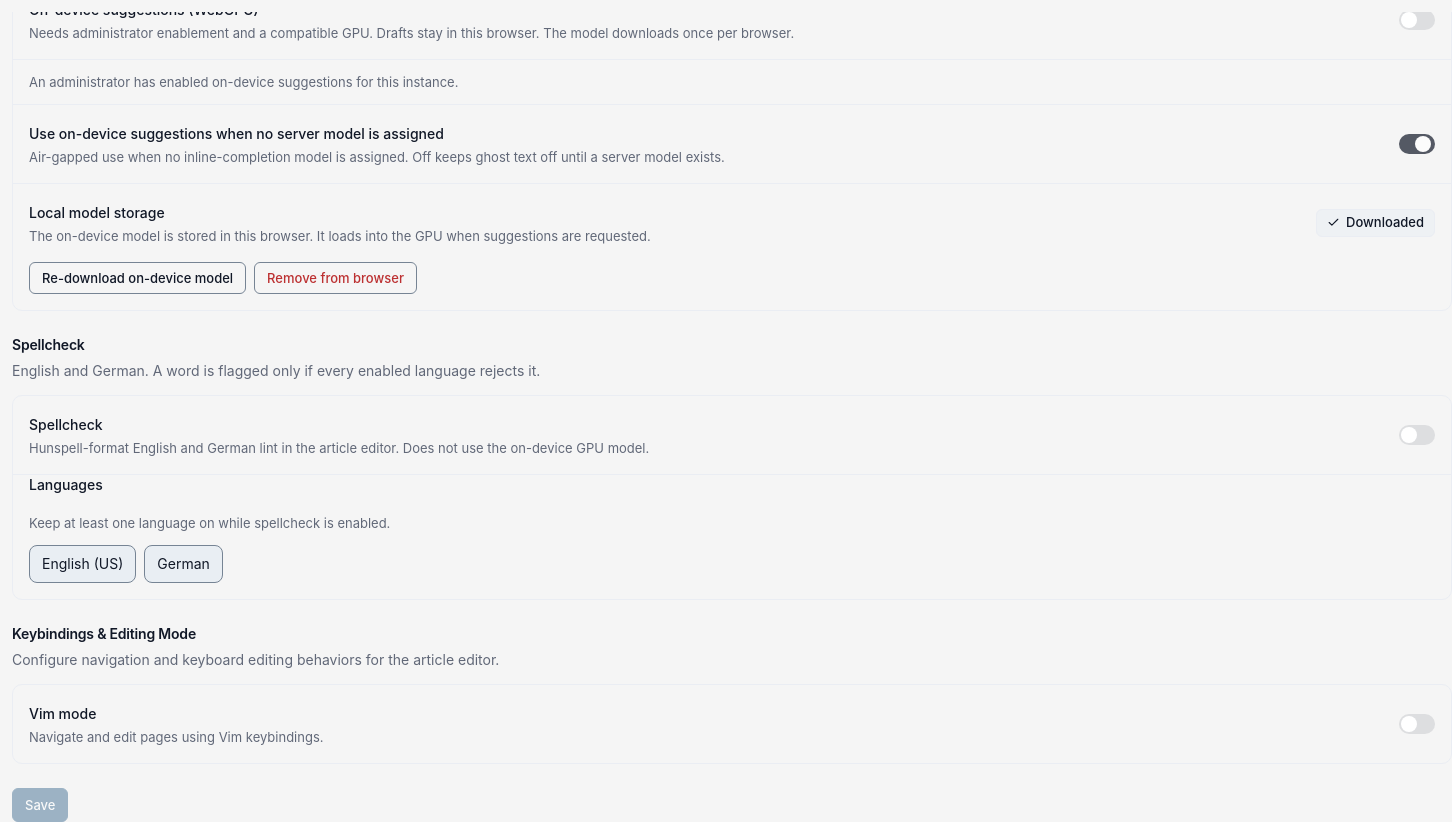
Test: EditorPreferencesTab on-device shells (#1418) › clears downloaded model when Remove from browser button is clicked
(page scrolled)
Click the button with test id "client-inference-clear-model".
click(336, 278)  # box [254,262,417,294]
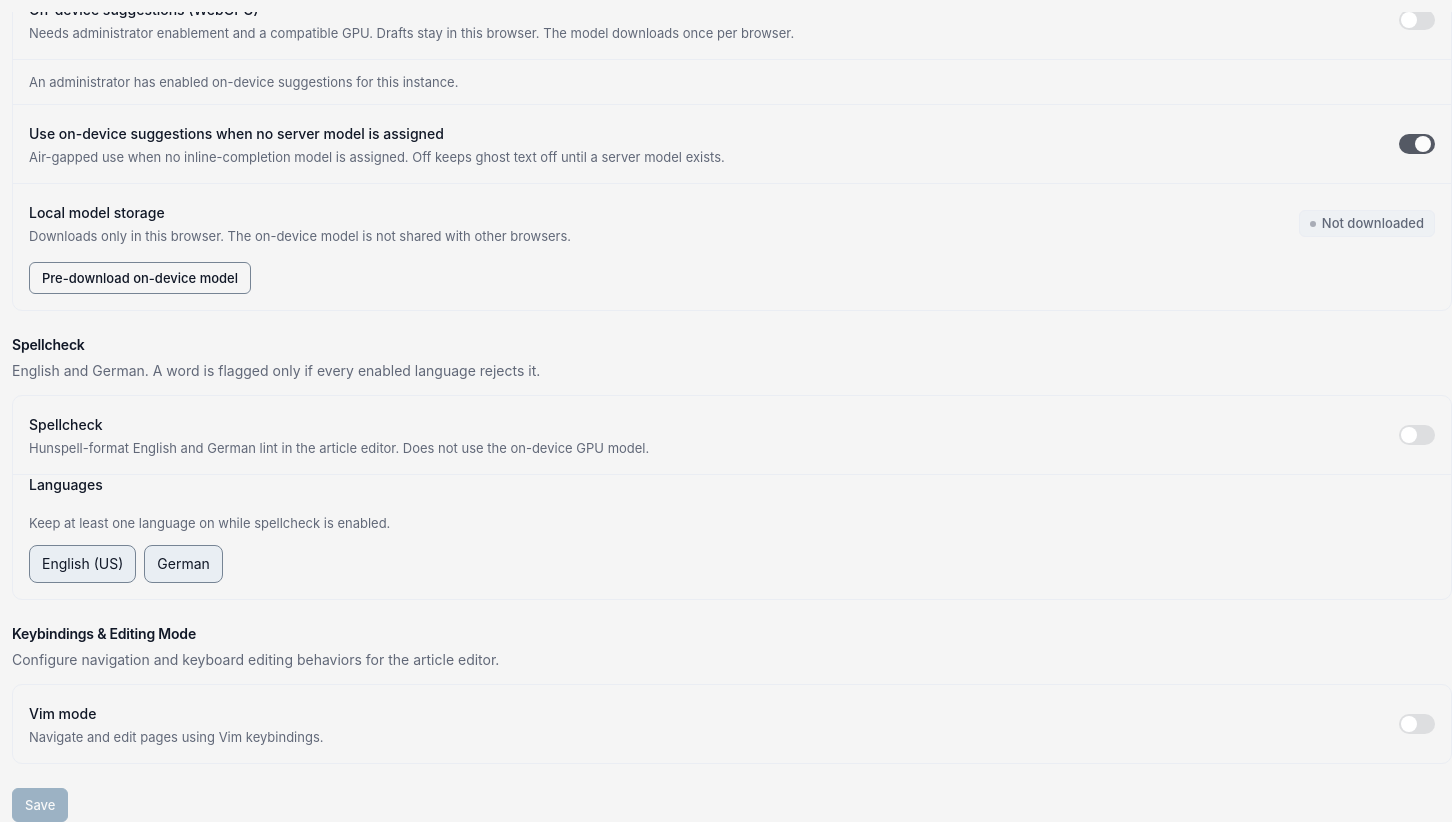
Expected: the element with test id "client-inference-status-not-downloaded" is shown, [1299,210,1435,237]
Expected: the button "Pre-download on-device model" is shown, [29,262,251,294]
